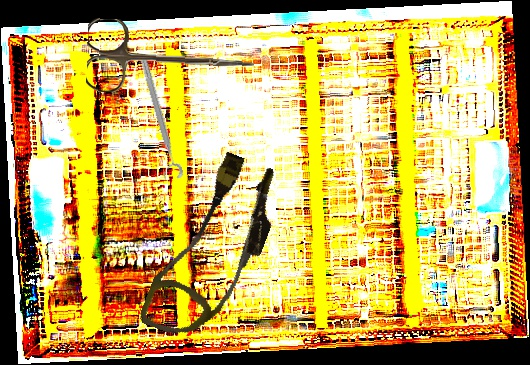Cannula: (137, 143, 291, 354)
Fixation Ring: (128, 52, 185, 183)
Iris Scissors: (85, 18, 256, 97)
